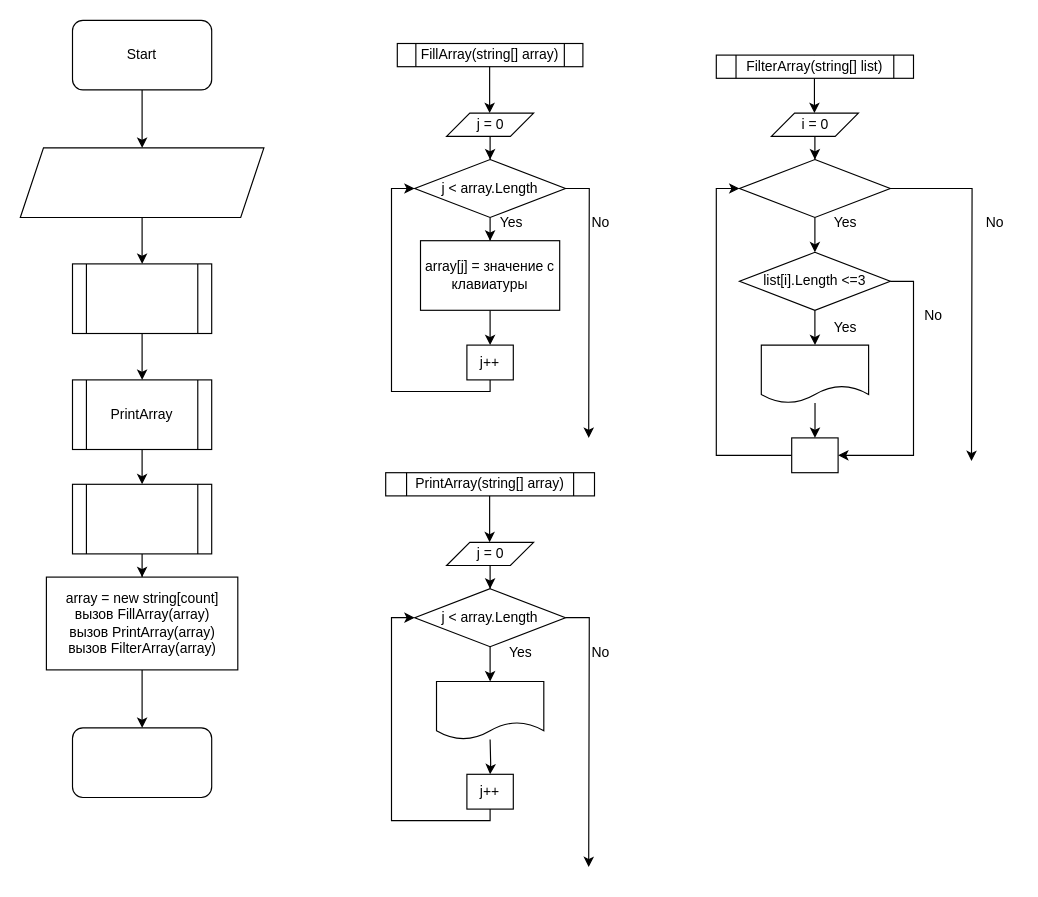
This 1038x897 diagram has some shape labels left out. The box of each missing label's shape, as (x1, y1, x2, y2) in pixels:
array[j]: (435, 680, 544, 740)
End: (71, 727, 212, 798)
FillArray: (71, 263, 212, 334)
FilterArray: (71, 483, 212, 554)
i < array.Length: (738, 158, 890, 217)
i++: (791, 437, 838, 473)
list[i]: (760, 344, 869, 403)
Введите количество элементов массива count: (19, 147, 264, 217)
